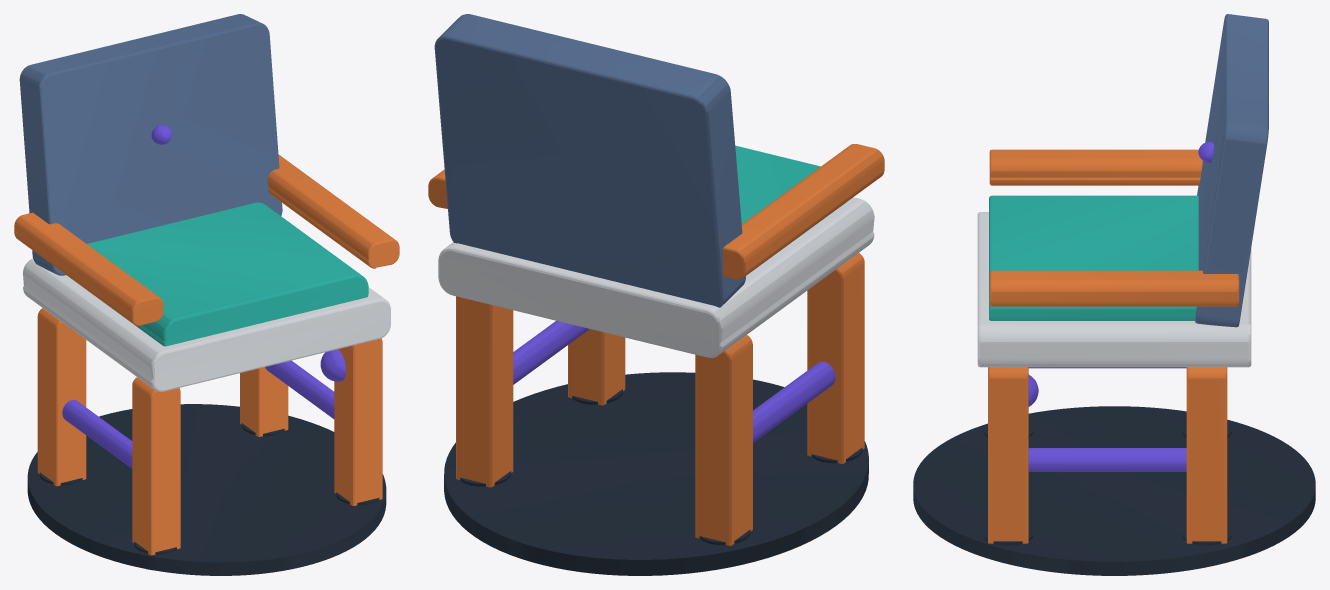
File: 0950_农业科技图鉴_五色土.glb
3 renders of one model, left to right at view 1: azimuth 30°, elevation 25°; view 2: azimuth 150°, elevation 25°; view 3: azimuth 270°, elevation 25°, orthographic. The views are drawn at different scales.
Visible parts, largest first — view 1: card_0950; view 2: card_0950; view 3: card_0950.
Boxes of the visible parts, x1,y1,x2,y2 form: card_0950: [14, 14, 399, 575]; card_0950: [428, 14, 884, 575]; card_0950: [913, 14, 1315, 575].
Size of the model in its own units: 0.7718 by 1 by 0.844.
